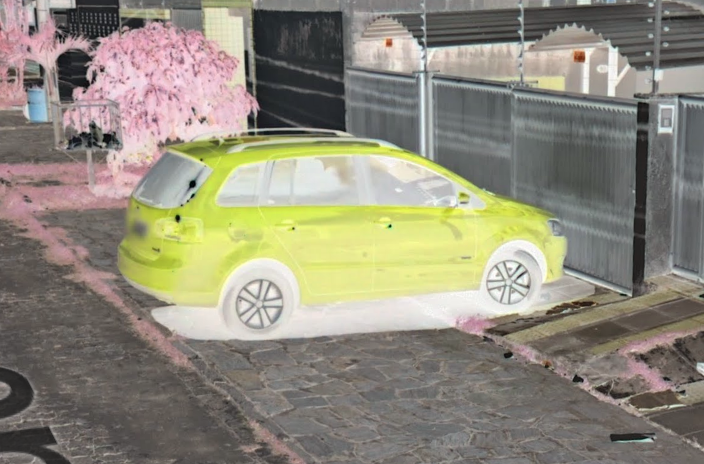car: (115, 124, 570, 345)
